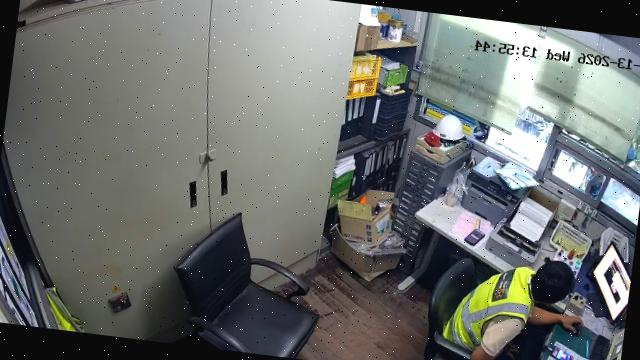Head: (532, 262, 574, 304)
People: (444, 265, 582, 359)
Phone: (465, 229, 484, 245), (551, 347, 570, 359)
